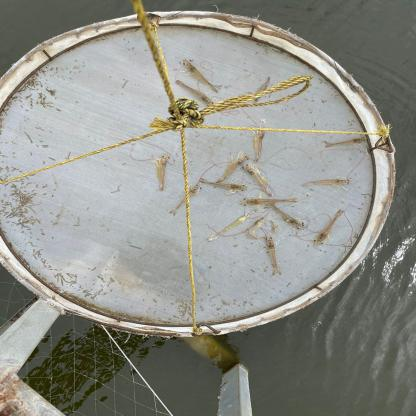shrimp: (182, 58, 222, 93), (206, 213, 251, 243), (264, 202, 306, 231), (314, 209, 345, 246), (169, 183, 202, 217), (175, 80, 215, 107), (215, 154, 251, 183), (242, 164, 273, 197), (265, 235, 282, 276), (199, 178, 248, 191), (248, 213, 270, 239), (323, 137, 367, 148), (238, 198, 298, 206), (158, 153, 170, 191), (302, 179, 351, 187), (254, 128, 265, 163)
